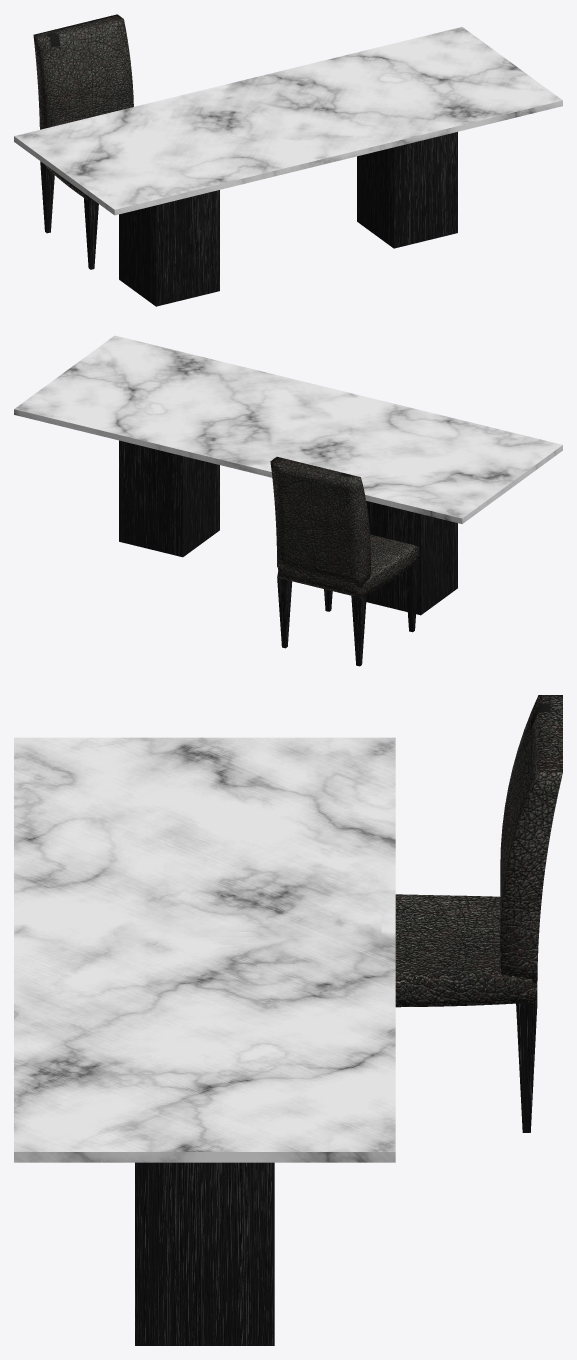
The model's file is conpany9.gltf.
3 views of the same model, one above another, from view 1: azimuth 30°, elevation 25°; view 2: azimuth 150°, elevation 25°; view 3: azimuth 270°, elevation 25° (orthographic). The views are drawn at different scales.
Visible parts, largest first — view 1: Group#57_1, Group#57, Group#57_2; view 2: Group#57_1, Group#57, Group#57_2; view 3: Group#57_1, Group#57, Group#57_2.
Part boxes in pixels (x1,y1,x2,y2): Group#57_1: (14,27,562,215); Group#57: (40,132,457,306); Group#57_2: (33,14,133,201); Group#57_1: (14,335,562,523); Group#57: (119,440,457,666); Group#57_2: (270,456,419,597); Group#57_1: (14,737,395,1162); Group#57: (135,1002,537,1345); Group#57_2: (395,695,562,1007).
Bounding box in the file's own units: 22.41 × 9.15 × 12.54.
Materials: 3 (3 with a texture image).
